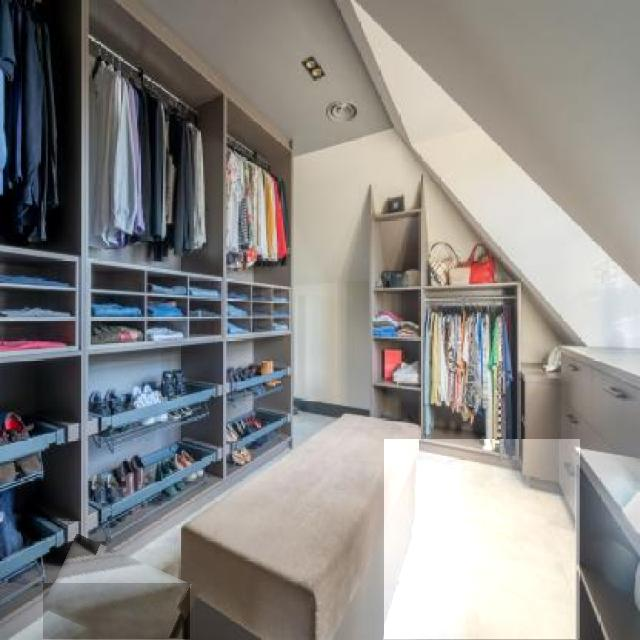floor: (384, 440, 580, 639), (44, 583, 190, 639)
